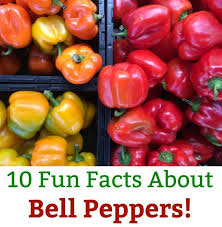bell pepper: (4, 90, 48, 147), (99, 63, 149, 112), (124, 8, 177, 53), (136, 134, 197, 173), (177, 10, 219, 66), (141, 94, 180, 150), (27, 122, 64, 177), (121, 44, 165, 89), (30, 13, 78, 54), (108, 108, 156, 146), (54, 44, 99, 81), (48, 89, 82, 135), (3, 2, 28, 55), (102, 143, 146, 172), (62, 2, 96, 36), (66, 141, 93, 171), (16, 1, 60, 17)
